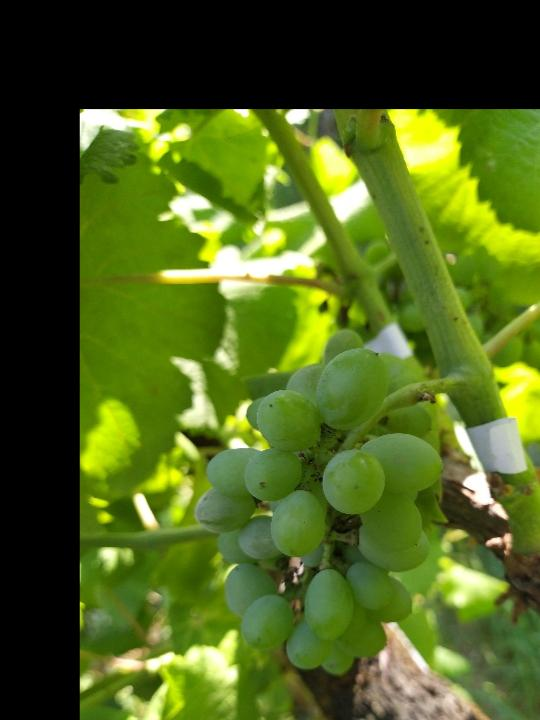grape: (186, 321, 449, 680)
